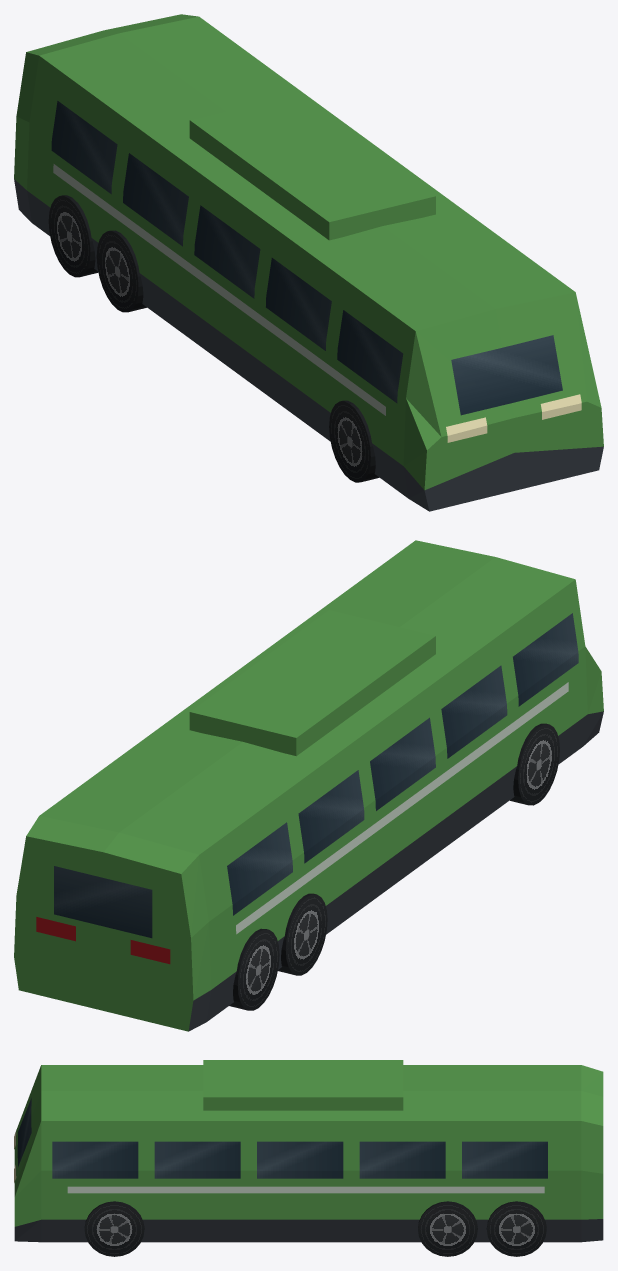
File: metrobus.obj
3 views of the same model, one above another, from view 1: azimuth 30°, elevation 25°; view 2: azimuth 150°, elevation 25°; view 3: azimuth 270°, elevation 25° (orthographic). The views are drawn at different scales.
Parts seen in each view (by area): view 1: metrobus; view 2: metrobus; view 3: metrobus.
Part boxes in pixels (box(x1,y1,x2,y2)): metrobus: box(14, 14, 603, 511); metrobus: box(14, 540, 603, 1031); metrobus: box(14, 1060, 603, 1256).
Size of the model in its own units: 2.5 by 2.55 by 9.42.
8 materials, 2 textured.
